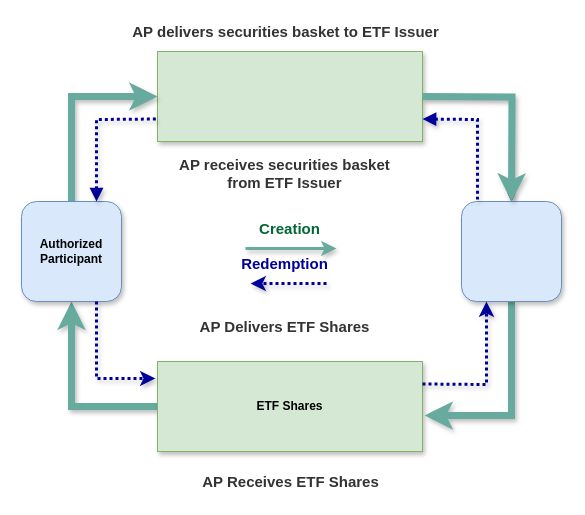
Some shapes in this 585 by 515 pixel diagram are drawn without their labels. The shapes that lost their labels are listed below. From the top down, each one's centre as x and y in pixels, then its label:
pixel 290 97: Stocks
pixel 512 252: ETF Issue
